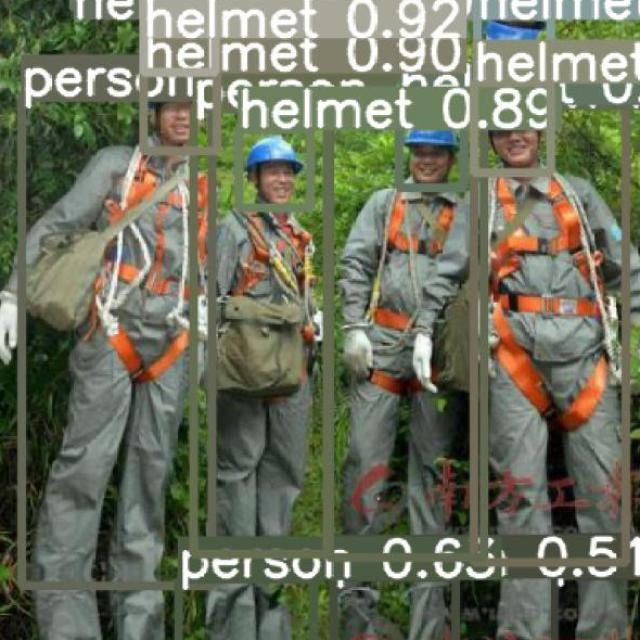helmet: (245, 136, 303, 173), (403, 127, 460, 150)
